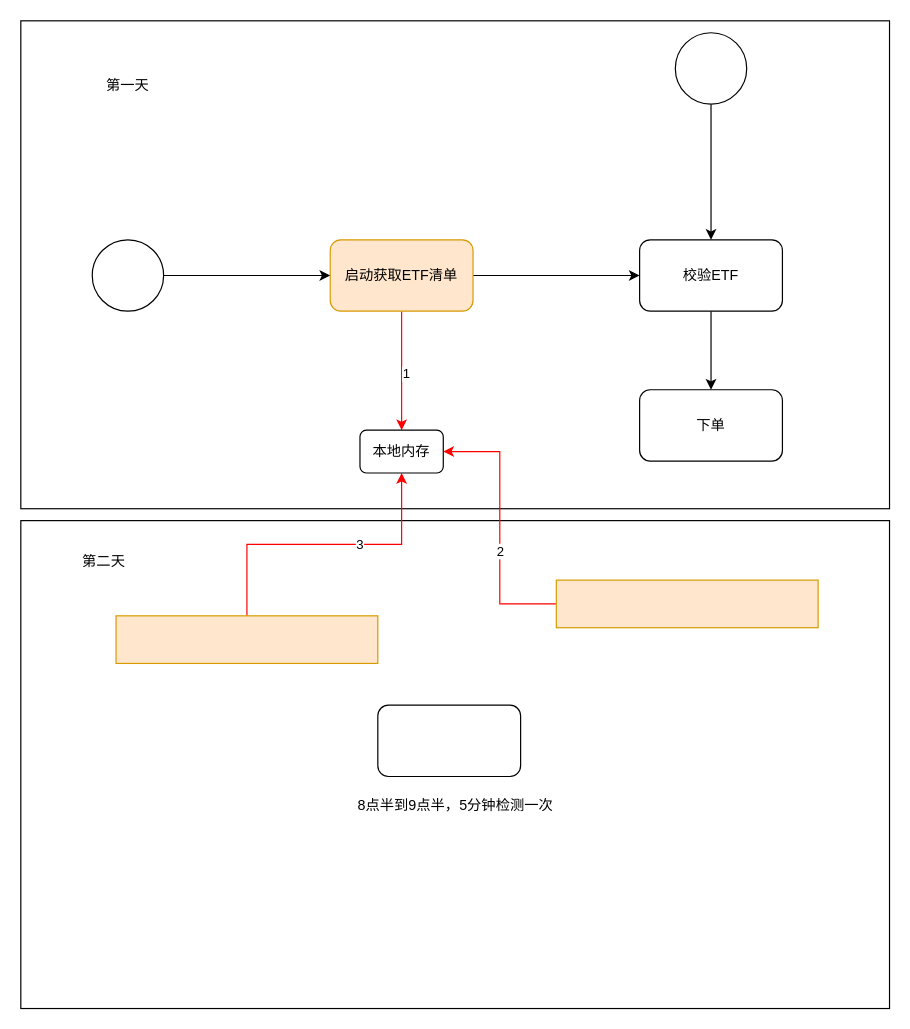
Some shapes in this 910 by 1029 pixel diagram are drawn without their labels. The centre of each missing label's shape, as x and y in pixels:
区间内5min 检测，获取数据和本地内存不一致，则覆盖本地内存: (x=246, y=639)
定时获取ETF清单: (x=449, y=740)
第一次拉取，如果有数据，清空本地内存，以实际为主， 否则还是用昨日的etf清单: (x=686, y=603)
